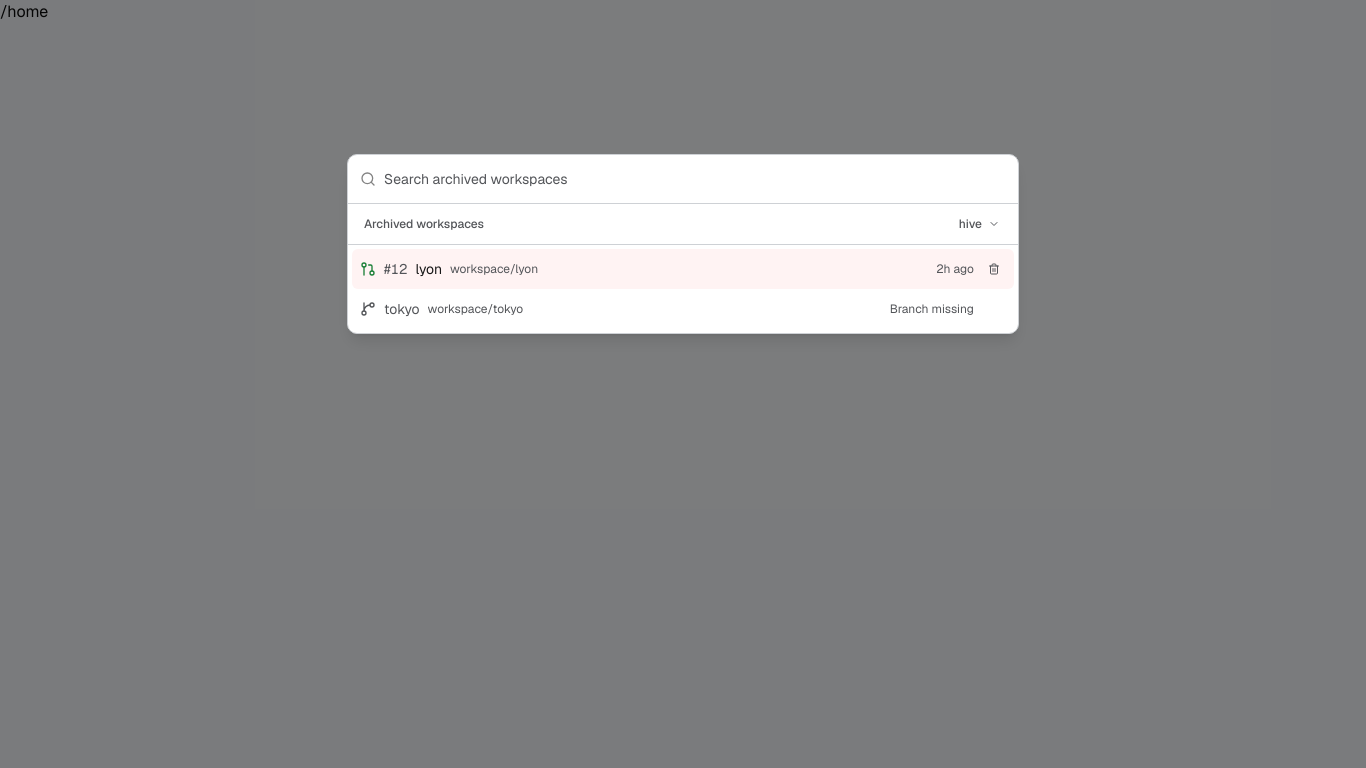
Test case: RestoreWorkspaceDialog › asks for confirmation before deleting, naming the workspace and its branch
The image size is (1366, 768).
Click the button named "Delete lyon" at (994, 269), box [982,257,1006,281]
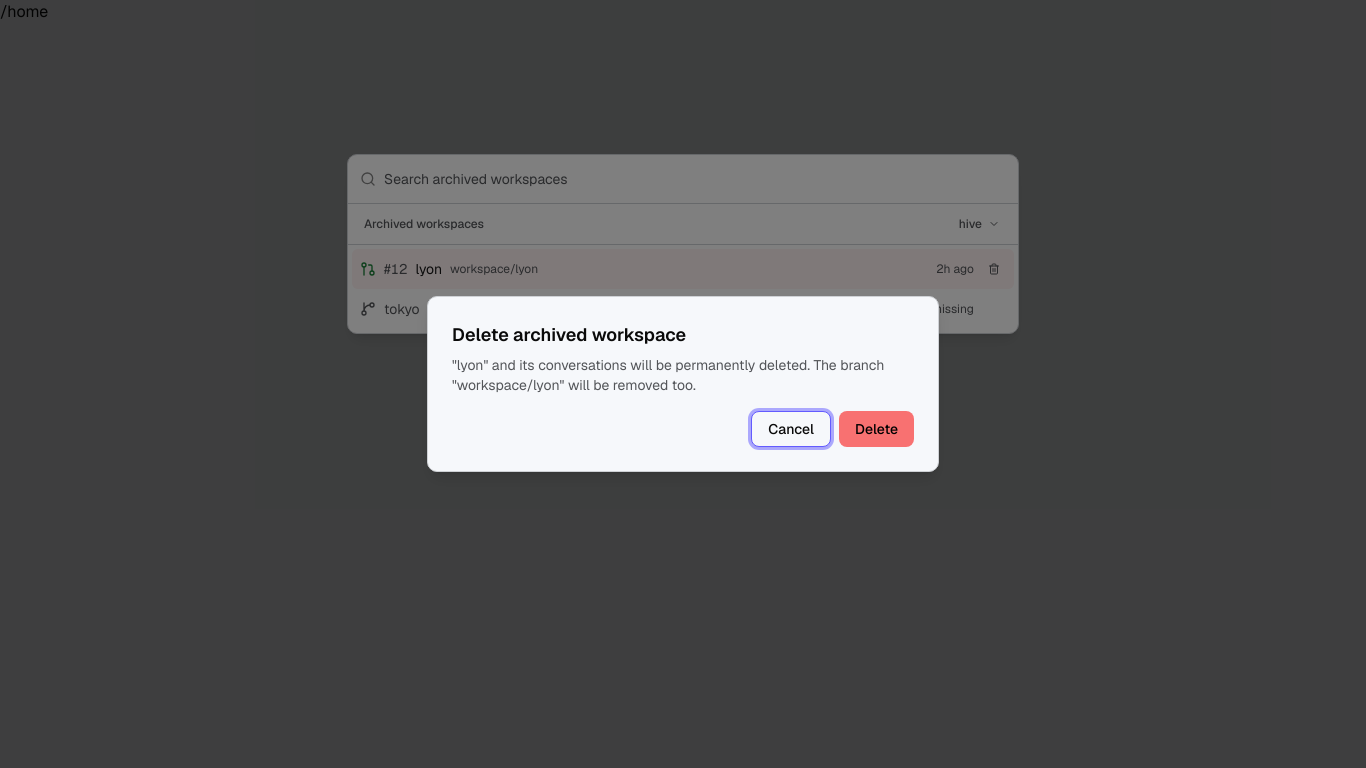
Expected: the dialog that starts with "Delete archived workspace" is shown, [452,323,686,346]
Expected: the dialog that starts with "Delete archived workspace" shows "\"lyon\" and its conversations will be permanently deleted.", [427,296,939,472]
Expected: the dialog that starts with "Delete archived workspace" shows "The branch \"workspace/lyon\" will be removed too.", [427,296,939,472]
